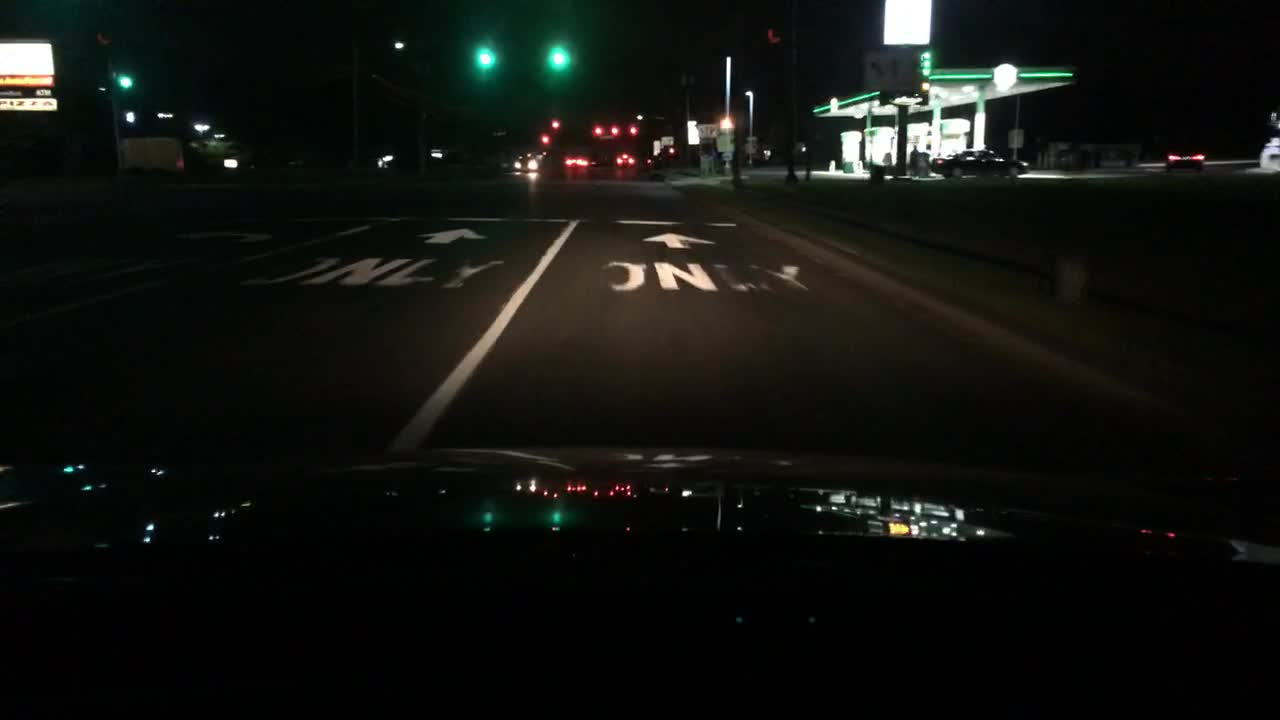car: (930, 148, 1028, 181), (1163, 141, 1205, 169), (562, 152, 591, 169), (509, 156, 538, 171), (614, 150, 635, 167)
person: (909, 142, 923, 179)
traffic light: (553, 43, 566, 74), (478, 43, 492, 70), (543, 40, 553, 76), (566, 40, 576, 76), (492, 43, 500, 70), (110, 72, 120, 91), (471, 41, 477, 70), (120, 72, 129, 89), (129, 74, 137, 91)
